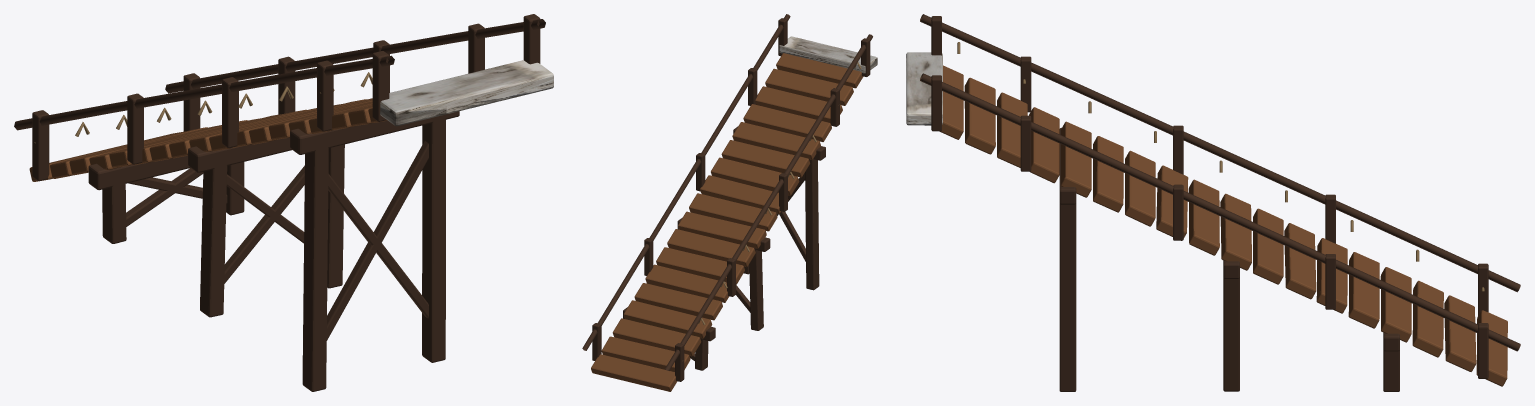
File: archer_platform_access_ramp_LOD0.glb
The picture shows the model from 3 angles, left to right: view 1: azimuth 30°, elevation 25°; view 2: azimuth 150°, elevation 25°; view 3: azimuth 270°, elevation 25°; orthographic projection. The views are drawn at different scales.
Visible parts, largest first — view 1: RampTrestlePost.004, RampUpperThreshold, RampTrestlePost.005, RampTrestlePost.002, RampHandrail, RampHandrail.001, RampTrestleBrace.004, RampTrestleCrossbeam.002, RampTrestlePost.003, RampTrestleCrossbeam.001, RampTrestleBrace.005, RampTrestleCrossbeam (+25 smaller); view 2: RampHandrail.001, RampHandrail, ArcherRampPlank.017, RampTrestlePost.004, ArcherRampPlank.003, ArcherRampPlank.008, ArcherRampPlank.013, ArcherRampPlank.005, ArcherRampPlank.004, ArcherRampPlank.009, ArcherRampPlank.010, ArcherRampPlank.014 (+23 smaller); view 3: RampHandrail, RampHandrail.001, RampTrestlePost.005, RampUpperThreshold, RampTrestlePost.003, ArcherRampPlank.001, ArcherRampPlank.015, ArcherRampPlank.016, ArcherRampPlank.013, ArcherRampPlank.005, ArcherRampPlank.011, ArcherRampPlank.008 (+20 smaller).
Part boxes in pixels (bbox=[...]): RampTrestlePost.004: bbox=[302, 133, 328, 391]; RampUpperThreshold: bbox=[380, 60, 553, 126]; RampTrestlePost.005: bbox=[422, 115, 445, 362]; RampTrestlePost.002: bbox=[200, 151, 227, 317]; RampHandrail: bbox=[14, 55, 394, 130]; RampHandrail.001: bbox=[165, 19, 545, 93]; RampTrestleBrace.004: bbox=[326, 141, 428, 340]; RampTrestleCrossbeam.002: bbox=[290, 111, 459, 154]; RampTrestlePost.003: bbox=[327, 144, 344, 288]; RampTrestleCrossbeam.001: bbox=[188, 137, 291, 172]; RampTrestleBrace.005: bbox=[328, 174, 428, 318]; RampTrestleCrossbeam: bbox=[88, 155, 190, 190]; RampHandrail.001: bbox=[582, 14, 790, 350]; RampHandrail: bbox=[665, 34, 872, 370]; ArcherRampPlank.017: bbox=[591, 354, 677, 391]; RampTrestlePost.004: bbox=[805, 159, 819, 290]; ArcherRampPlank.003: bbox=[743, 104, 831, 141]; ArcherRampPlank.008: bbox=[689, 193, 777, 231]; ArcherRampPlank.013: bbox=[634, 283, 722, 320]; ArcherRampPlank.005: bbox=[721, 140, 810, 177]; ArcherRampPlank.004: bbox=[732, 122, 820, 159]; ArcherRampPlank.009: bbox=[678, 211, 766, 248]; ArcherRampPlank.010: bbox=[667, 229, 755, 267]; ArcherRampPlank.014: bbox=[623, 300, 712, 338]; RampHandrail: bbox=[920, 14, 1520, 292]; RampHandrail.001: bbox=[920, 73, 1520, 351]; RampTrestlePost.005: bbox=[1059, 203, 1076, 391]; RampUpperThreshold: bbox=[906, 52, 942, 125]; RampTrestlePost.003: bbox=[1223, 278, 1239, 391]; ArcherRampPlank.001: bbox=[964, 77, 995, 154]; ArcherRampPlank.015: bbox=[1412, 280, 1443, 357]; ArcherRampPlank.016: bbox=[1444, 295, 1476, 371]; ArcherRampPlank.013: bbox=[1348, 252, 1379, 328]; ArcherRampPlank.005: bbox=[1093, 136, 1123, 212]; ArcherRampPlank.011: bbox=[1284, 223, 1316, 299]; ArcherRampPlank.008: bbox=[1188, 179, 1219, 255].
Bounding box in the file's own units: 1.98 × 4.66 × 8.06.
4 materials, 1 textured.
